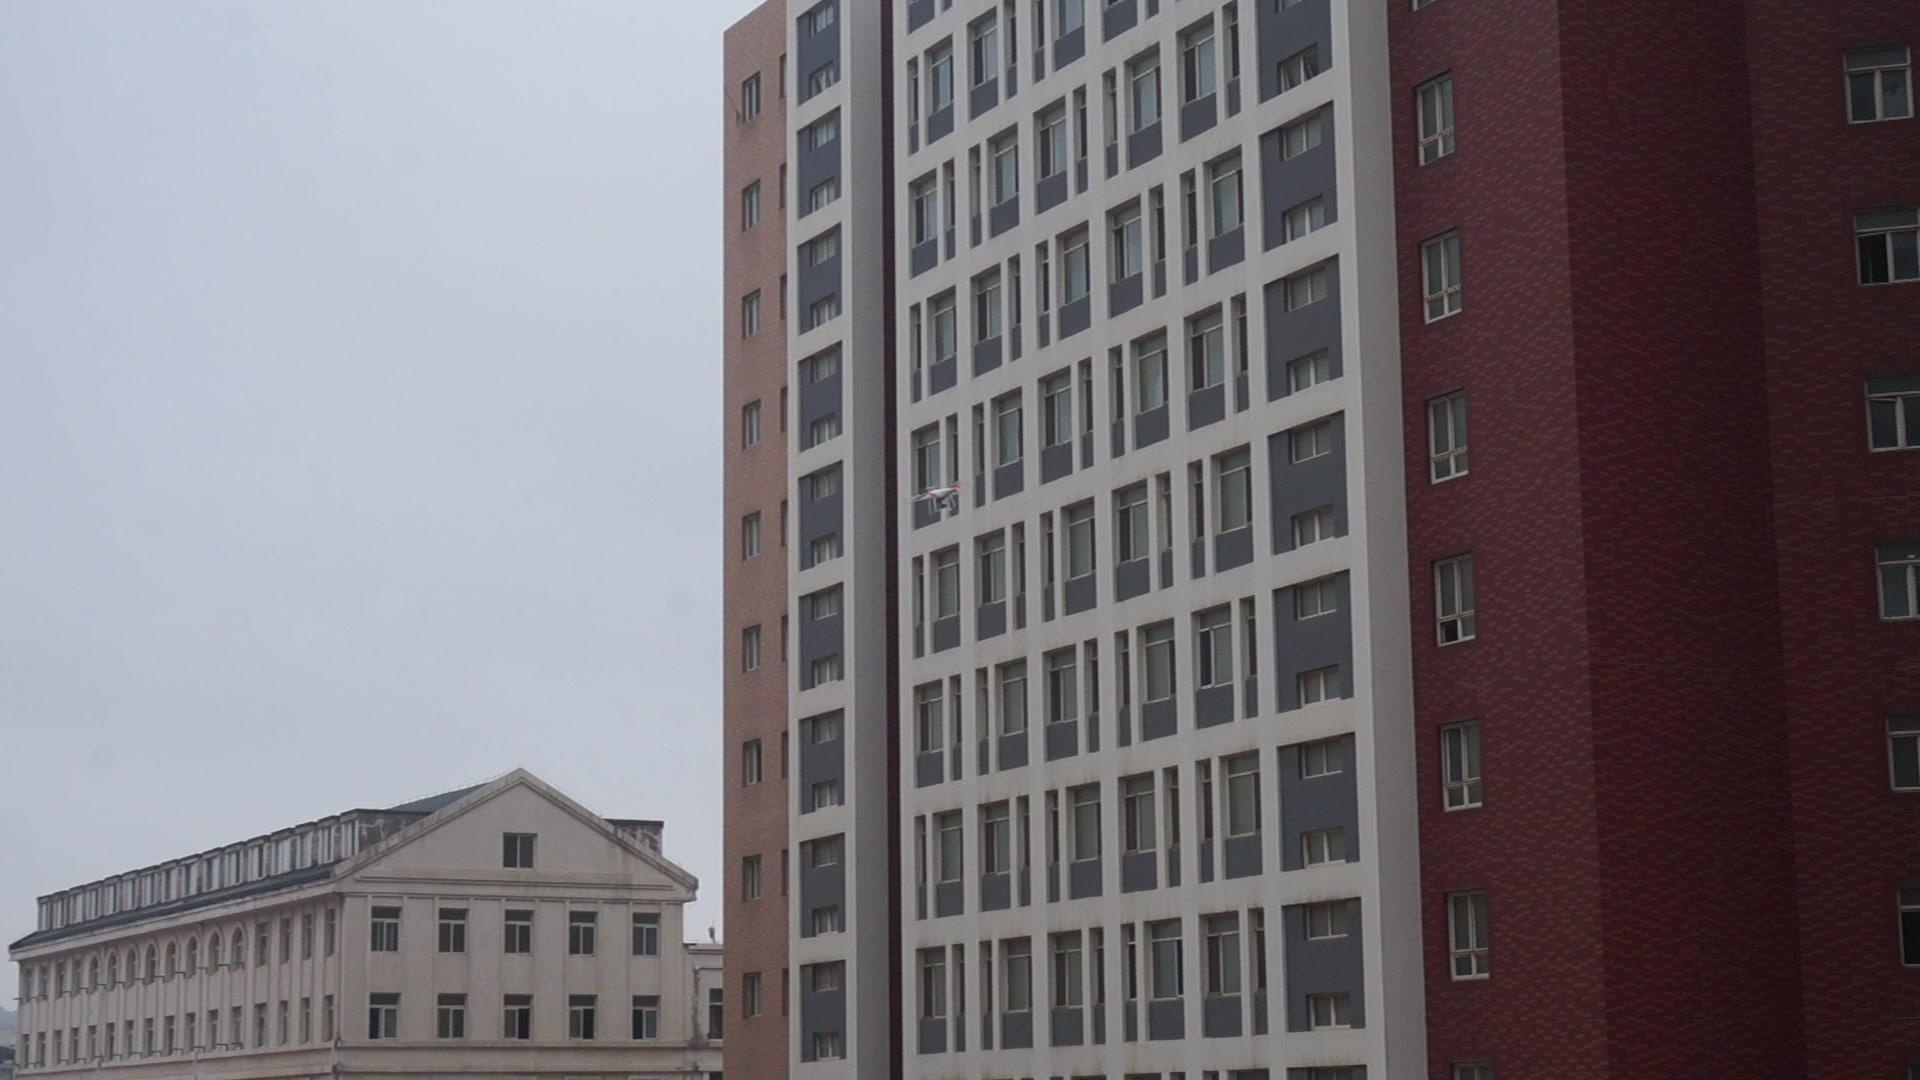UAV: (903, 481, 969, 516)
